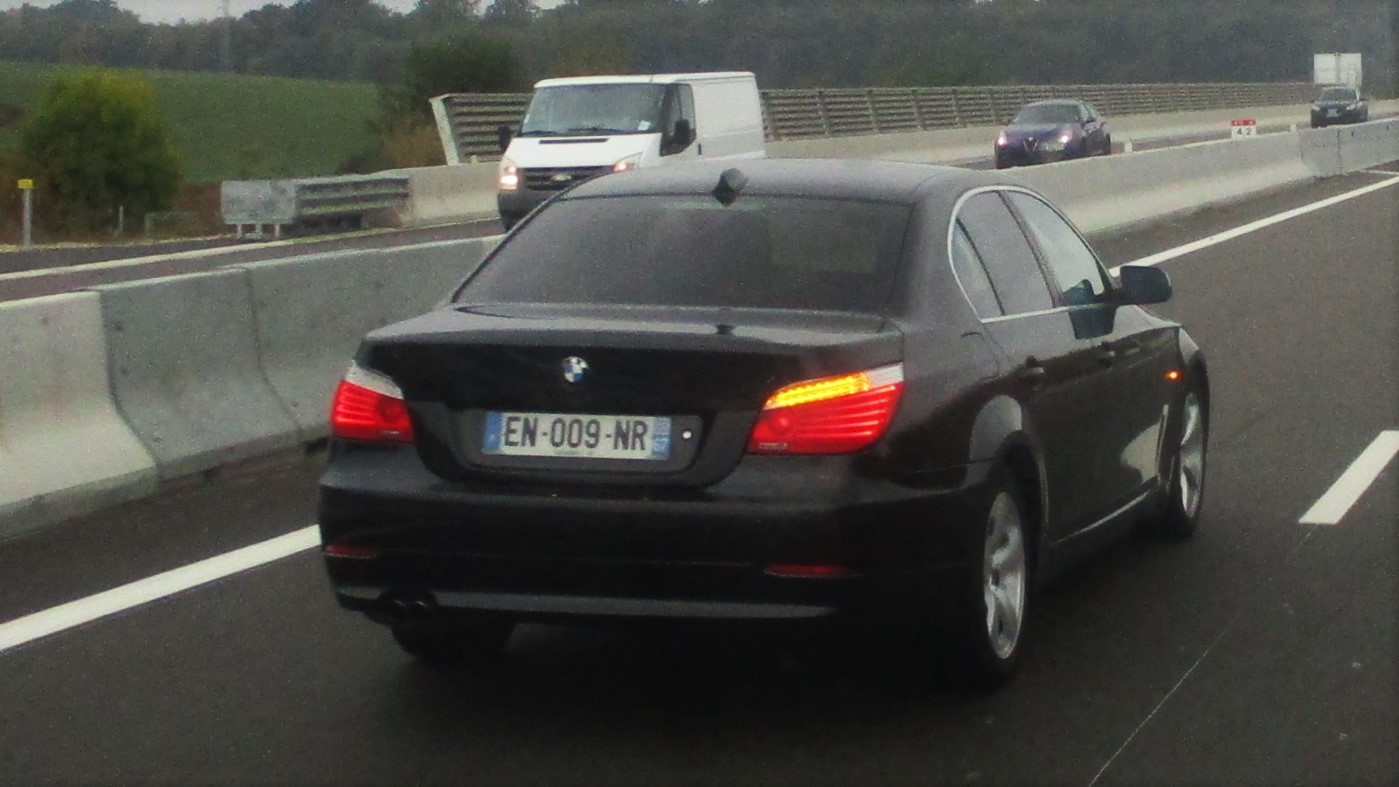licence plate: (478, 404, 674, 464)
